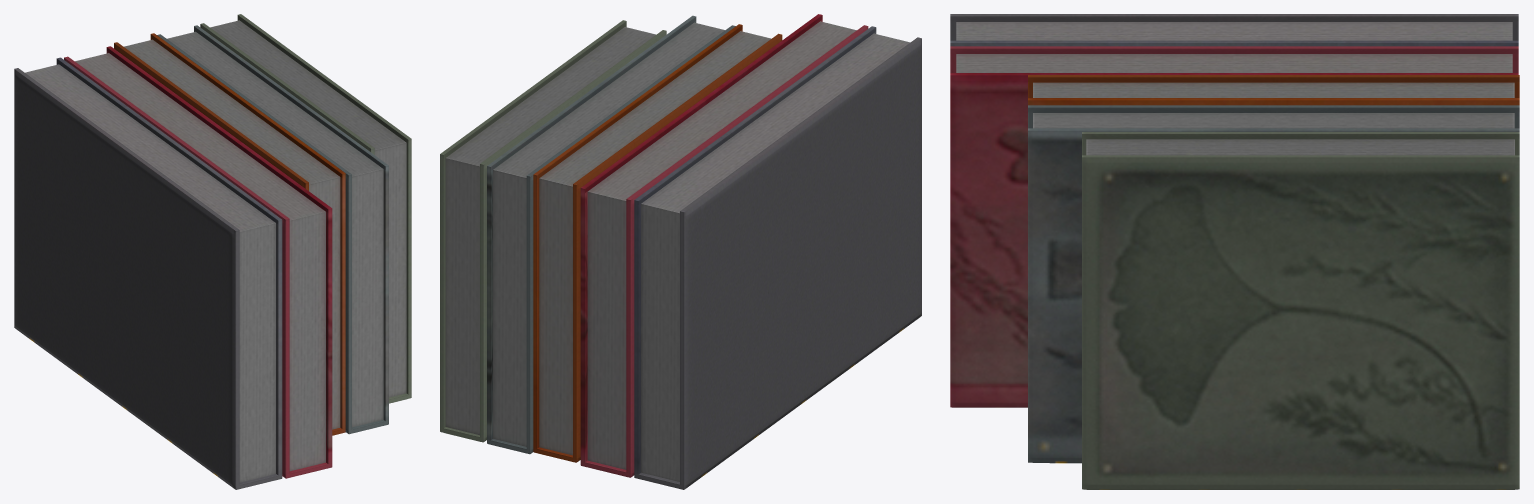
File: 10266_Books_Literature_L3.obj
The picture shows the model from 3 angles, left to right: view 1: azimuth 30°, elevation 25°; view 2: azimuth 150°, elevation 25°; view 3: azimuth 270°, elevation 25°; orthographic projection. The views are drawn at different scales.
Parts seen in each view (by area): view 1: 10266_Books_Literature; view 2: 10266_Books_Literature; view 3: 10266_Books_Literature.
Part boxes in pixels (x1,y1,x2,y2): 10266_Books_Literature: [14, 14, 411, 489]; 10266_Books_Literature: [440, 14, 921, 489]; 10266_Books_Literature: [950, 14, 1519, 489].
Size of the model in its own units: 11.52 by 12.65 by 19.3.
Materials: 1 (1 with a texture image).
